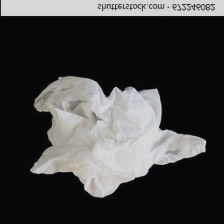tissue: (20, 70, 210, 202)
